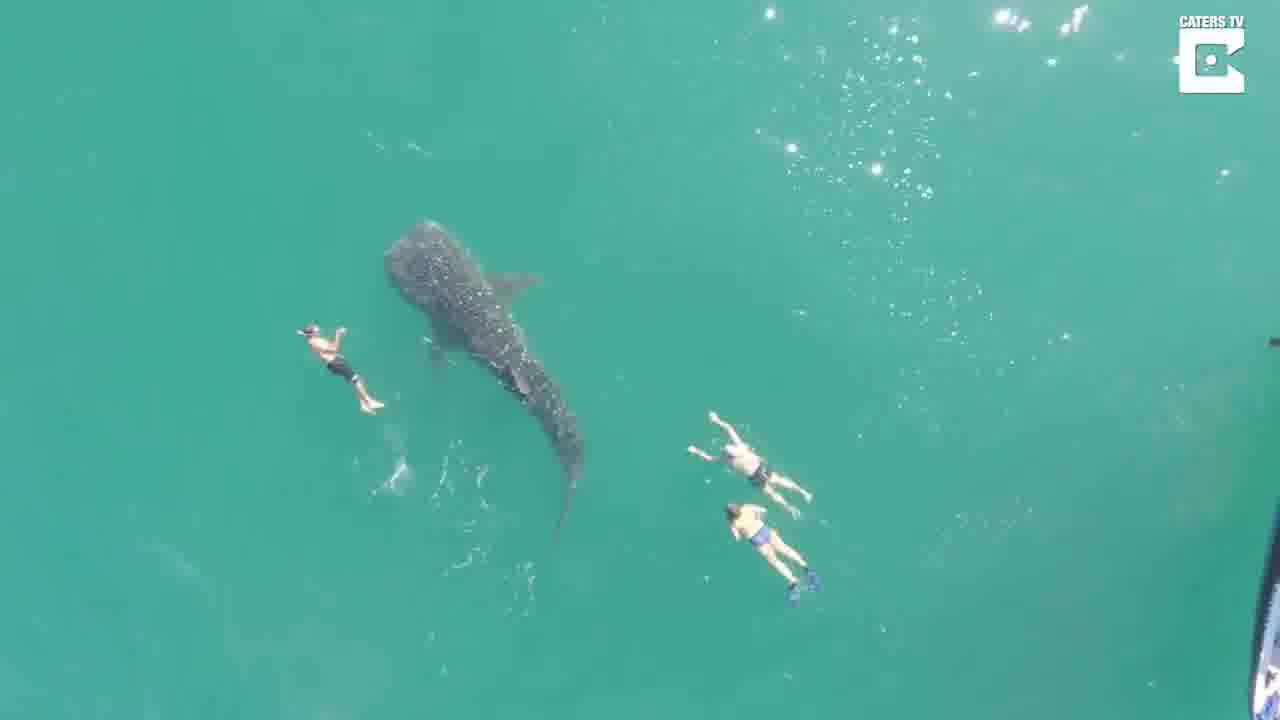human: (681, 418, 814, 516), (720, 501, 820, 609), (293, 320, 397, 423)
